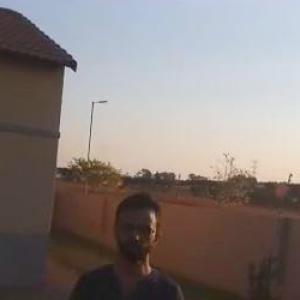follow: (50, 178, 188, 298)
